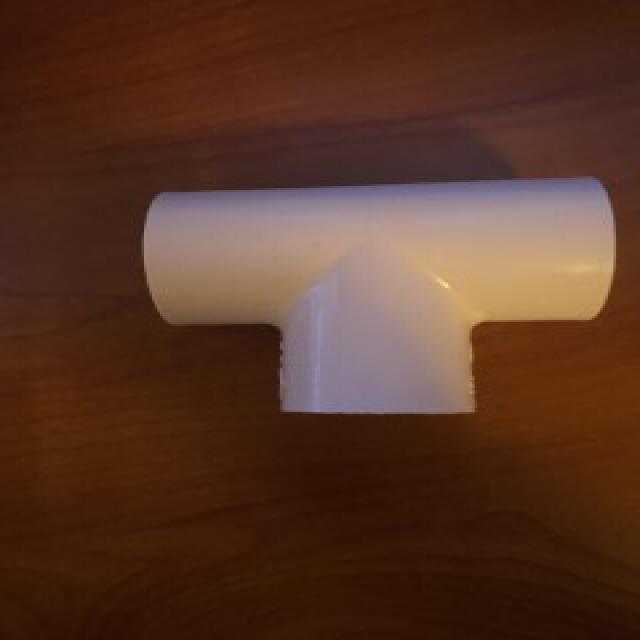T Joint: (140, 176, 618, 417)
